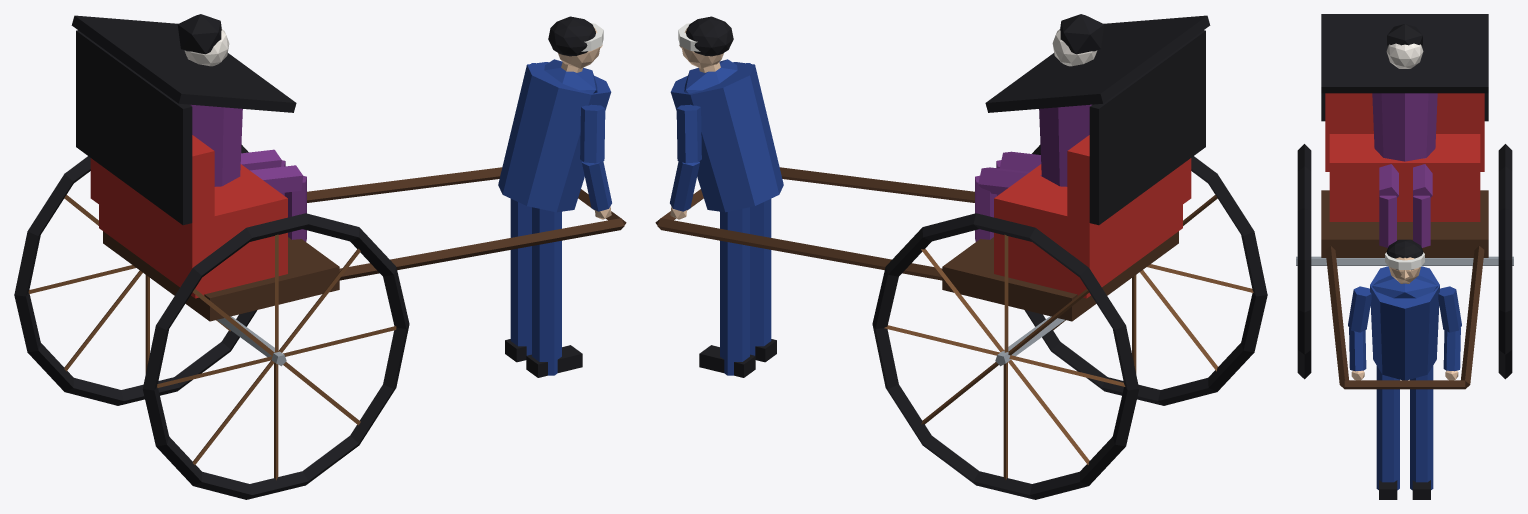
Rendered from rikscha.glb.
3 renders of one model, left to right at view 1: azimuth 30°, elevation 25°; view 2: azimuth 150°, elevation 25°; view 3: azimuth 270°, elevation 25°, orthographic. The views are drawn at different scales.
Visible parts, largest first — view 1: rikscha; view 2: rikscha; view 3: rikscha.
Part boxes in pixels (x1,y1,x2,y2): rikscha: (14, 14, 626, 499); rikscha: (655, 14, 1267, 499); rikscha: (1296, 14, 1513, 499).
Size of the model in its own units: 2.85 by 2.24 by 1.3.
